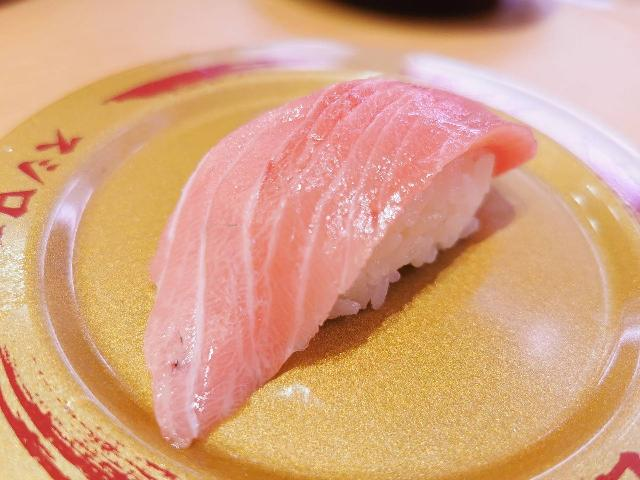jangold: (0, 105, 135, 480), (516, 99, 640, 480), (317, 327, 516, 480), (107, 59, 198, 164)
